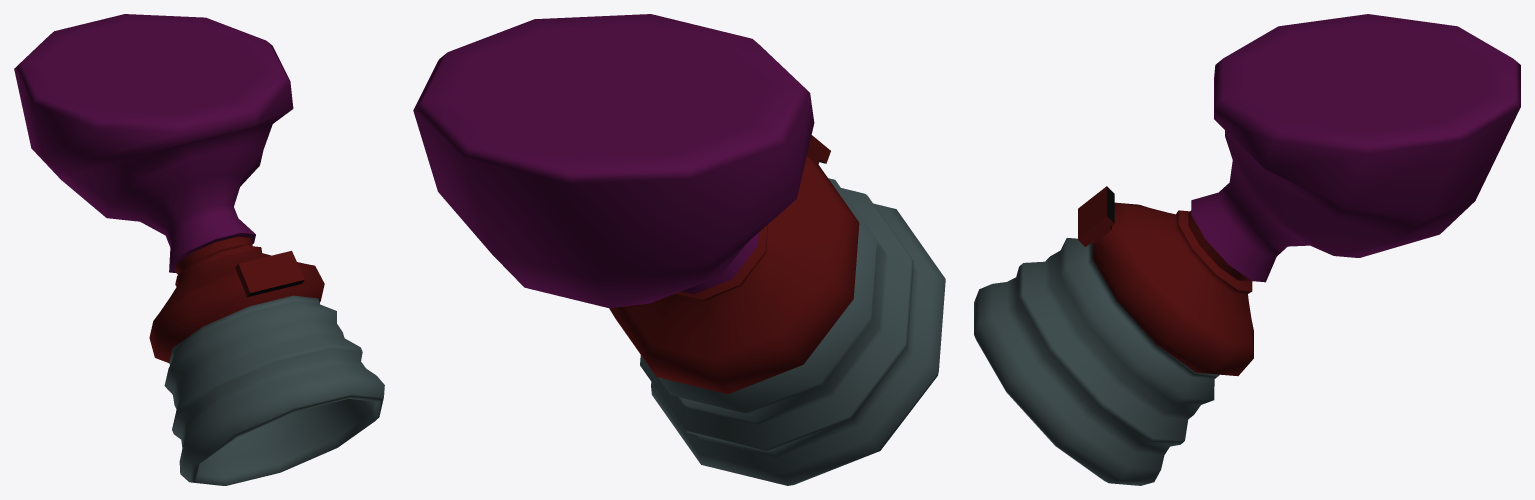
File: Thruster.fbx
The picture shows the model from 3 angles, left to right: view 1: azimuth 30°, elevation 25°; view 2: azimuth 150°, elevation 25°; view 3: azimuth 270°, elevation 25°; orthographic projection. The views are drawn at different scales.
Visible parts, largest first — view 1: Thruster; view 2: Thruster; view 3: Thruster.
Boxes of the visible parts, x1,y1,x2,y2 form: Thruster: (14,14,384,485); Thruster: (413,14,945,485); Thruster: (974,14,1520,485).
Size of the model in its own units: 150 by 255 by 202.
